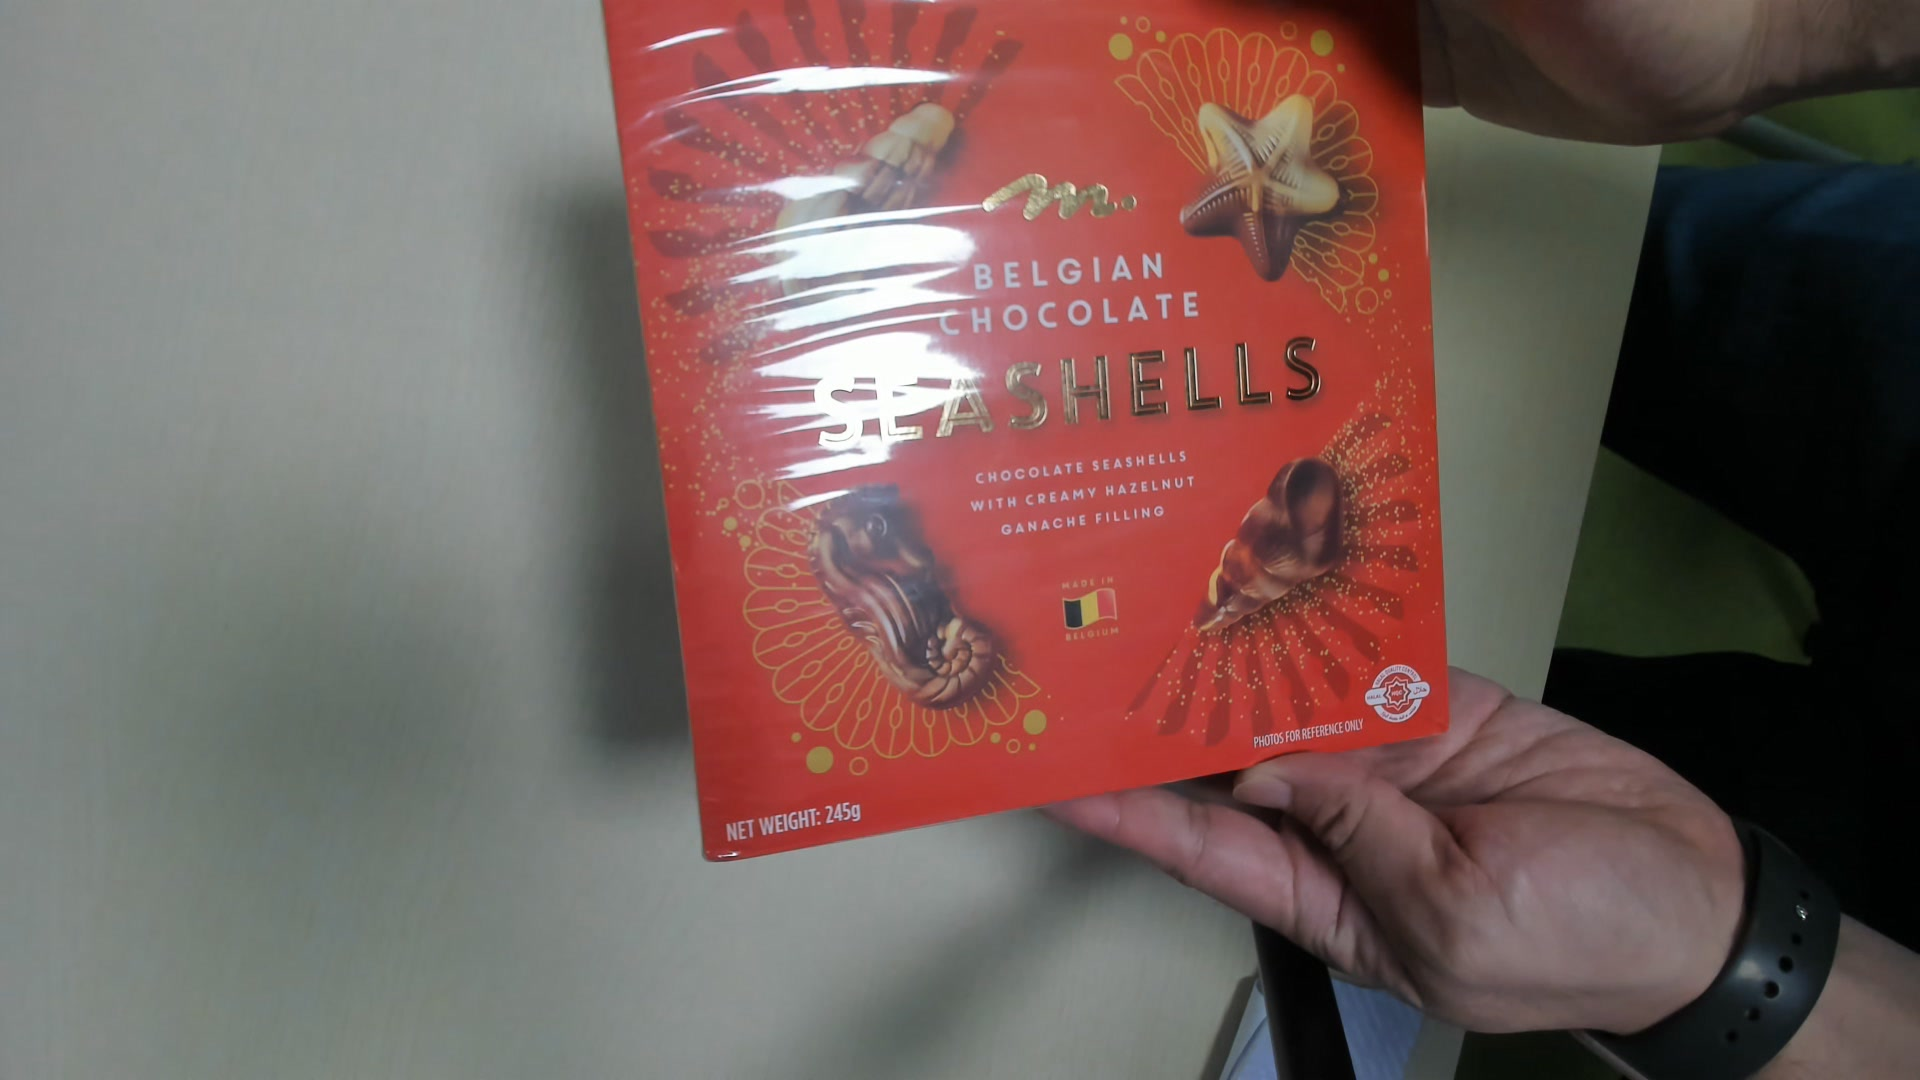SweetsChocolatesOthers_200-299g_Halal_Nonhealthy: (609, 16, 1447, 858)
